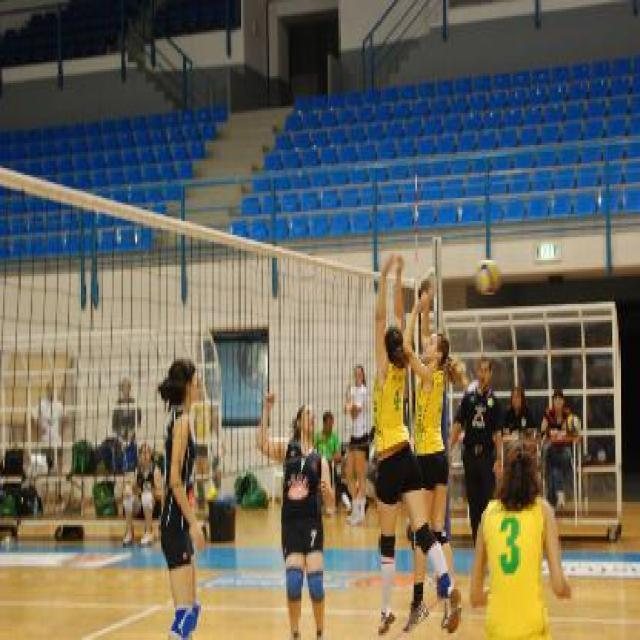volleyball: (472, 260, 504, 296)
